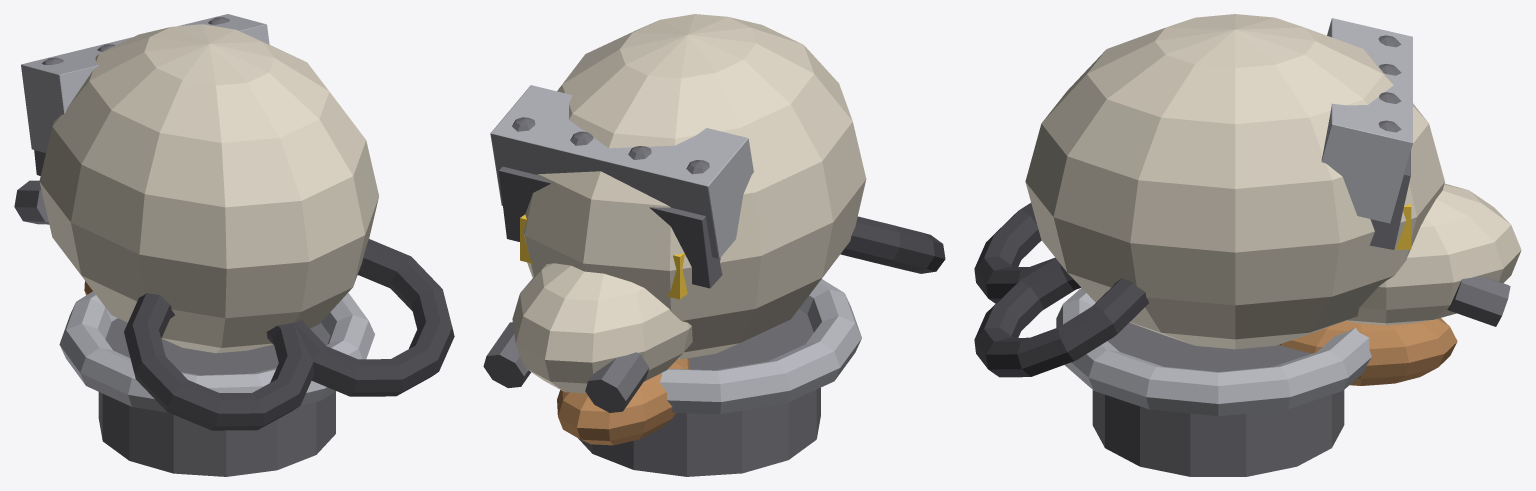
Rendered from hound-vis.glb.
3 views of the same model, side by side, from view 1: azimuth 30°, elevation 25°; view 2: azimuth 150°, elevation 25°; view 3: azimuth 270°, elevation 25° (orthographic). The views are drawn at different scales.
Parts seen in each view (by area): view 1: skull, neck, cable1, cable0, neckring, brow, nos_r; view 2: skull, brow, snout, neck, neckring, jaw, visorhood, cable1, nos_r, nos_l, visor; view 3: skull, neck, neckring, snout, brow, cable0, jaw, cable1, nos_l, visorhood.
Part boxes in pixels (left/top/right/bottom): skull: left=39, top=24, right=378, bottom=353; neck: left=98, top=318, right=335, bottom=476; cable1: left=124, top=293, right=313, bottom=430; cable0: left=294, top=239, right=454, bottom=396; neckring: left=59, top=291, right=374, bottom=412; brow: left=21, top=14, right=269, bottom=152; nos_r: left=14, top=180, right=49, bottom=224; skull: left=523, top=14, right=866, bottom=359; brow: left=490, top=85, right=753, bottom=258; snout: left=512, top=263, right=692, bottom=393; neck: left=578, top=309, right=820, bottom=476; neckring: left=659, top=279, right=861, bottom=414; jaw: left=557, top=358, right=689, bottom=445; visorhood: left=498, top=166, right=722, bottom=288; cable1: left=840, top=216, right=945, bottom=273; nos_r: left=585, top=352, right=649, bottom=412; nos_l: left=483, top=322, right=531, bottom=388; visor: left=520, top=214, right=687, bottom=299; skull: left=1025, top=14, right=1444, bottom=349; neck: left=1092, top=322, right=1344, bottom=476; neckring: left=1056, top=288, right=1371, bottom=416; snout: left=1346, top=183, right=1521, bottom=325; brow: left=1321, top=18, right=1412, bottom=223; cable0: left=974, top=258, right=1148, bottom=377; jaw: left=1280, top=318, right=1457, bottom=385; cable1: left=974, top=203, right=1055, bottom=303; nos_l: left=1447, top=275, right=1510, bottom=326; visorhood: left=1369, top=151, right=1410, bottom=249.
Bounding box in the file's own units: 0.224 × 0.26 × 0.326.
